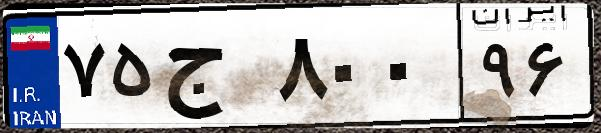0: (385, 28, 445, 110), (330, 28, 385, 110)
5: (110, 28, 158, 98)
6: (525, 38, 570, 115)
7: (57, 26, 110, 100)
8: (270, 28, 330, 110)
9: (475, 38, 525, 113)
ج: (158, 20, 270, 120)
